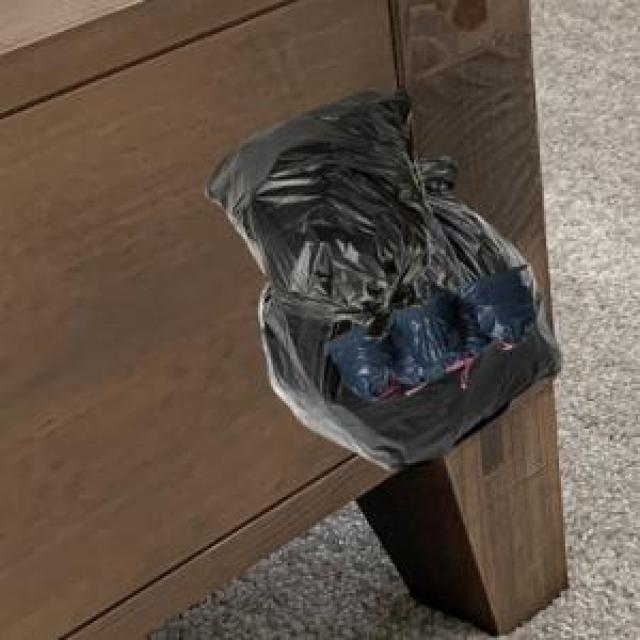Vinyl: (206, 94, 559, 469)
